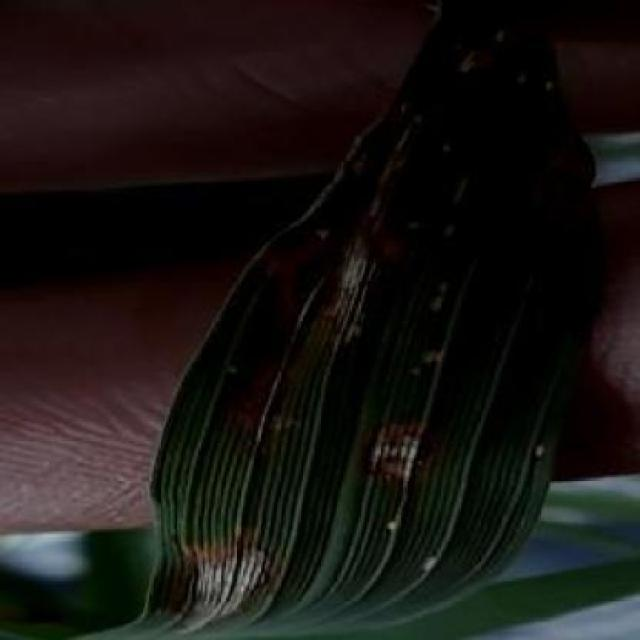Bacterial_Leaf_Blight: (291, 189, 414, 348), (152, 526, 300, 640), (342, 398, 458, 499), (218, 352, 311, 454)
